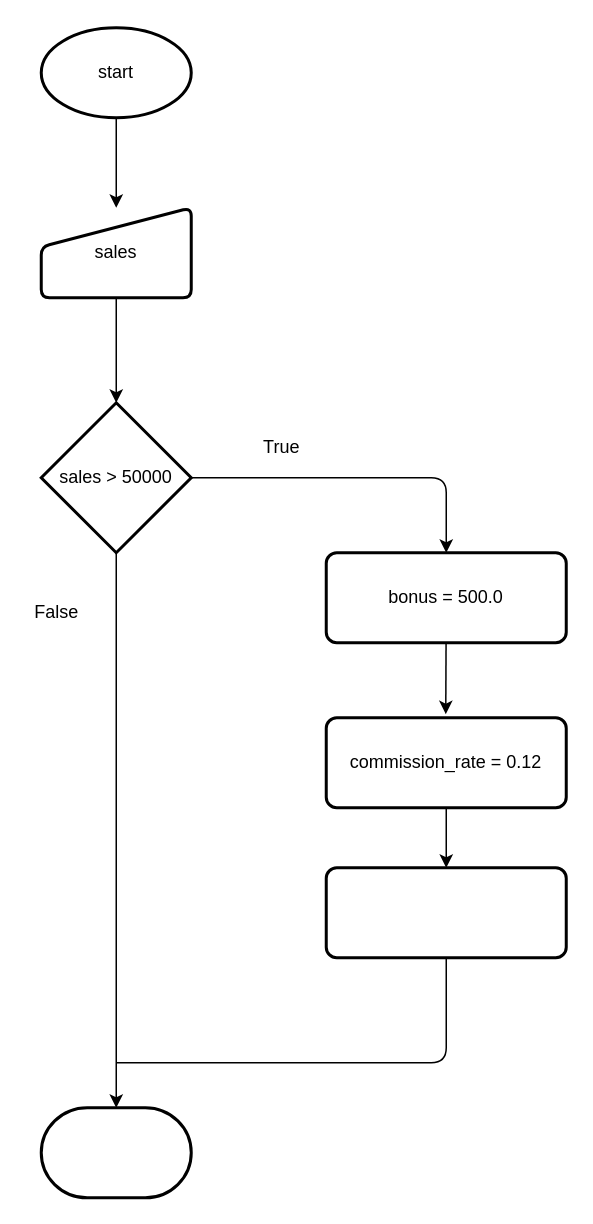
Image size: 593x1224. Some labels were removed from this diagram. The box of each missing label's shape, as (x1, y1, x2, y2) in pixels:
end: (39, 1106, 192, 1198)
print('Youmet your sales quota!'): (324, 866, 567, 958)
